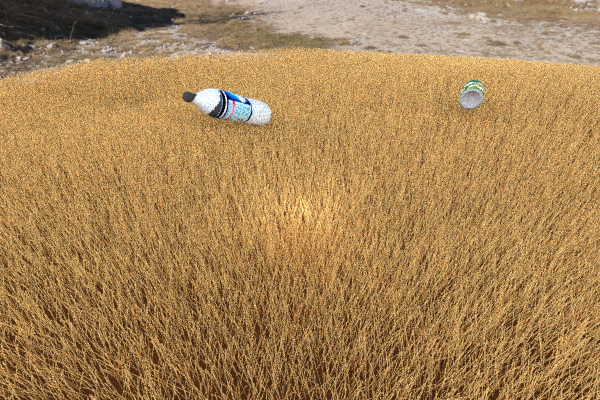Plastic Bottle: (182, 88, 272, 125), (7, 118, 62, 161), (458, 79, 484, 110)
